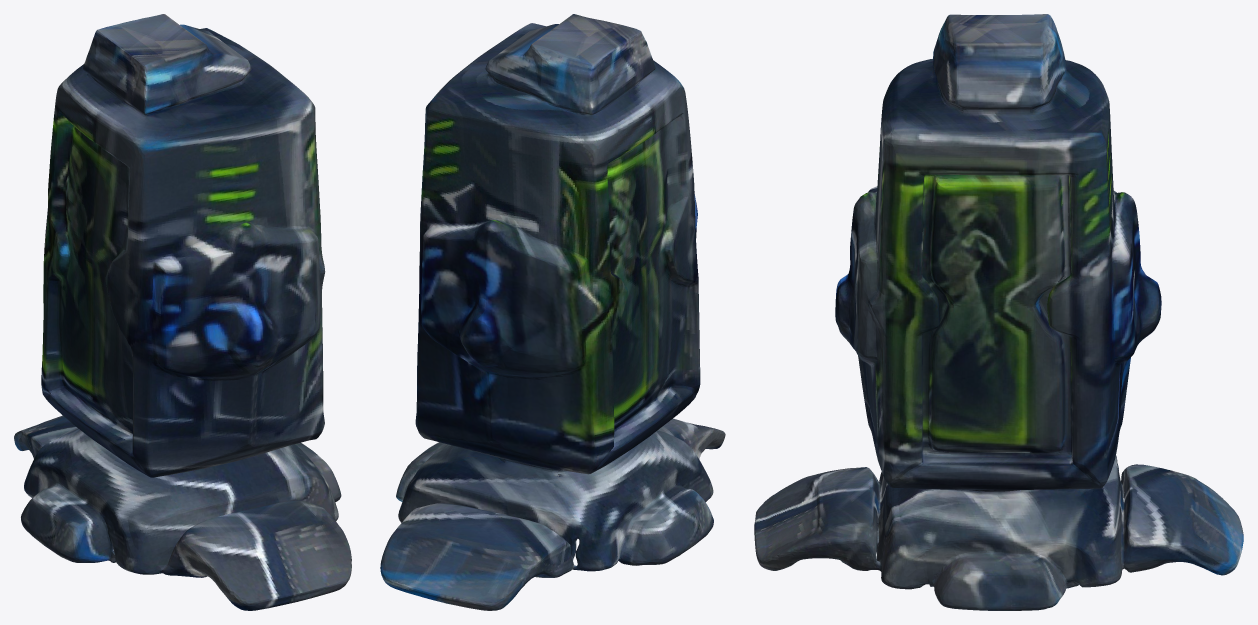
Rendered from captain_ness_body.glb.
3 views of the same model, side by side, from view 1: azimuth 30°, elevation 25°; view 2: azimuth 150°, elevation 25°; view 3: azimuth 270°, elevation 25° (orthographic). The views are drawn at different scales.
Bounding box in the file's own units: 1.19 × 2 × 1.76.
1 material, 1 textured.
